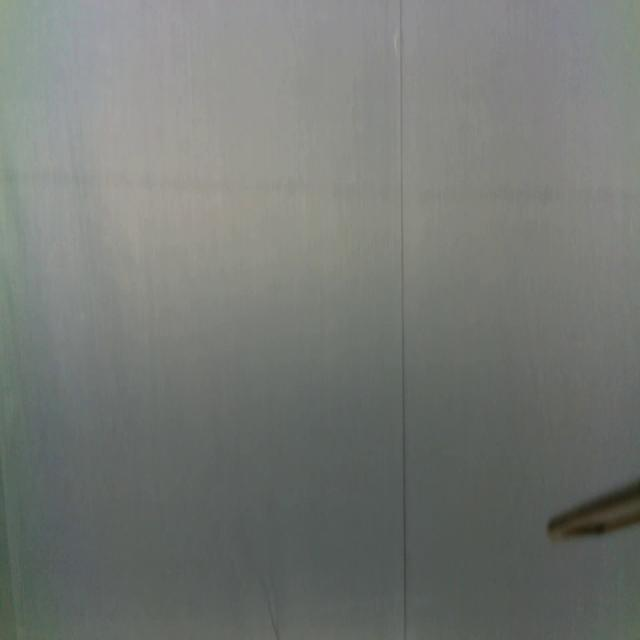color bleeding: (0, 160, 640, 216)
crease: (399, 1, 408, 640)
